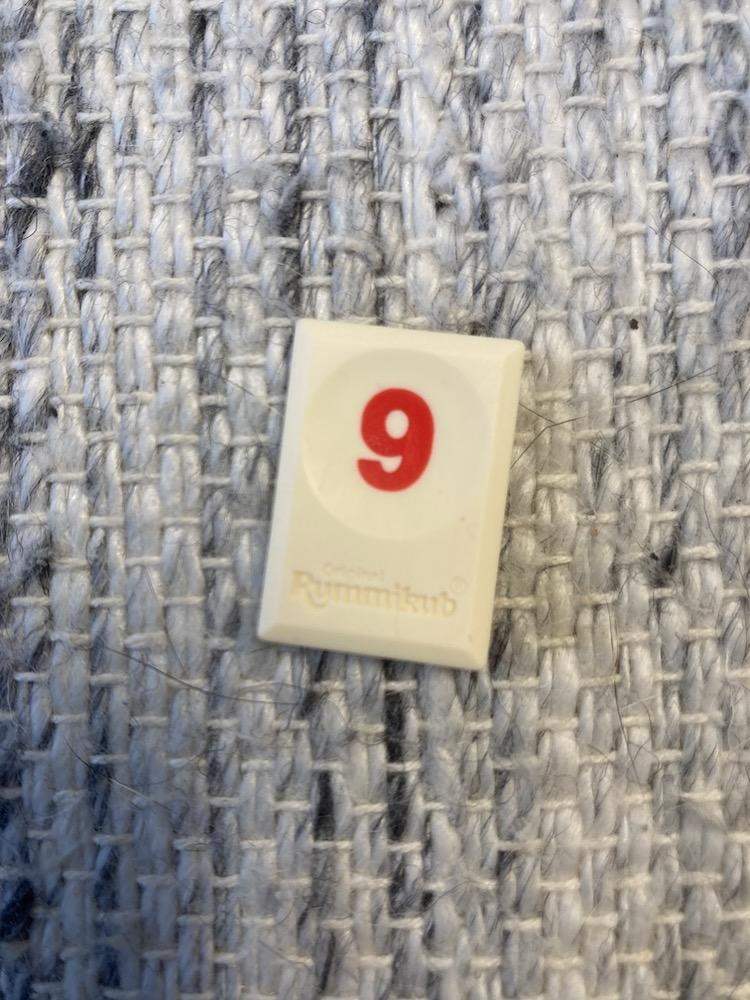red_9: (258, 320, 523, 670)
